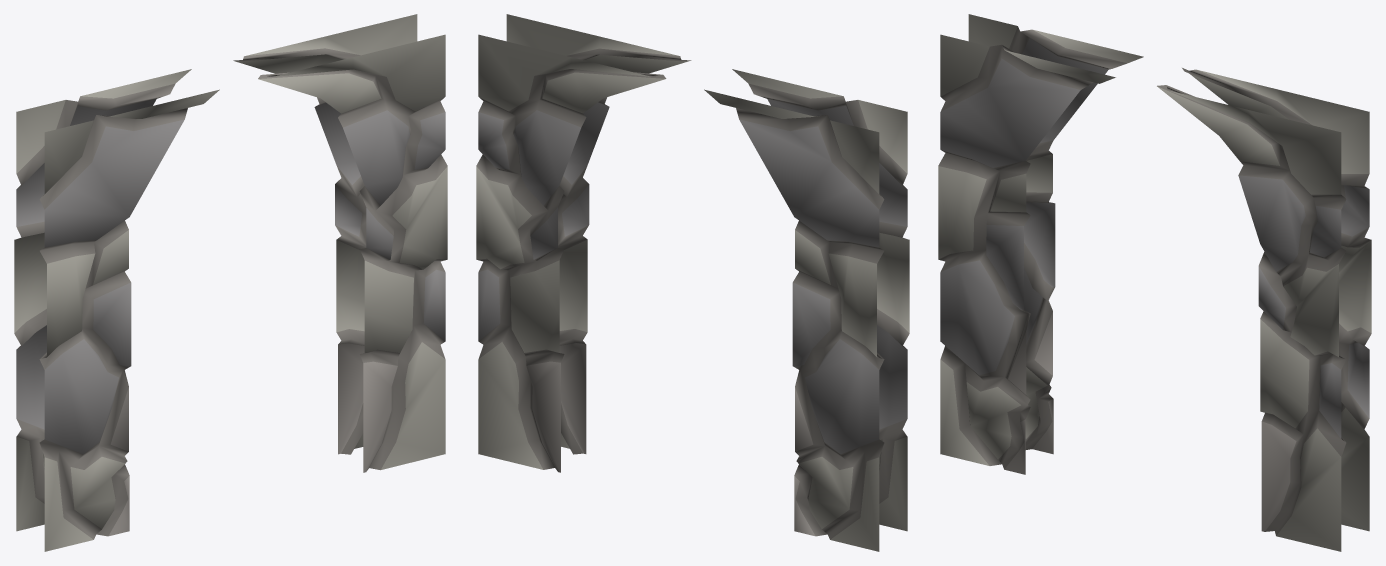
The model's file is rpgpp_ag_wall_03_3x3_door_c.fbx.
3 views of the same model, side by side, from view 1: azimuth 30°, elevation 25°; view 2: azimuth 150°, elevation 25°; view 3: azimuth 330°, elevation 25° (orthographic).
Visible parts, largest first — view 1: rpgpp_ag_wall_03_3x3_door_c; view 2: rpgpp_ag_wall_03_3x3_door_c; view 3: rpgpp_ag_wall_03_3x3_door_c.
Boxes of the visible parts, x1,y1,x2,y2 form: rpgpp_ag_wall_03_3x3_door_c: (14,14,447,551); rpgpp_ag_wall_03_3x3_door_c: (476,14,909,551); rpgpp_ag_wall_03_3x3_door_c: (938,14,1371,551).
Bounding box in the file's own units: 3 × 3 × 0.4267.
